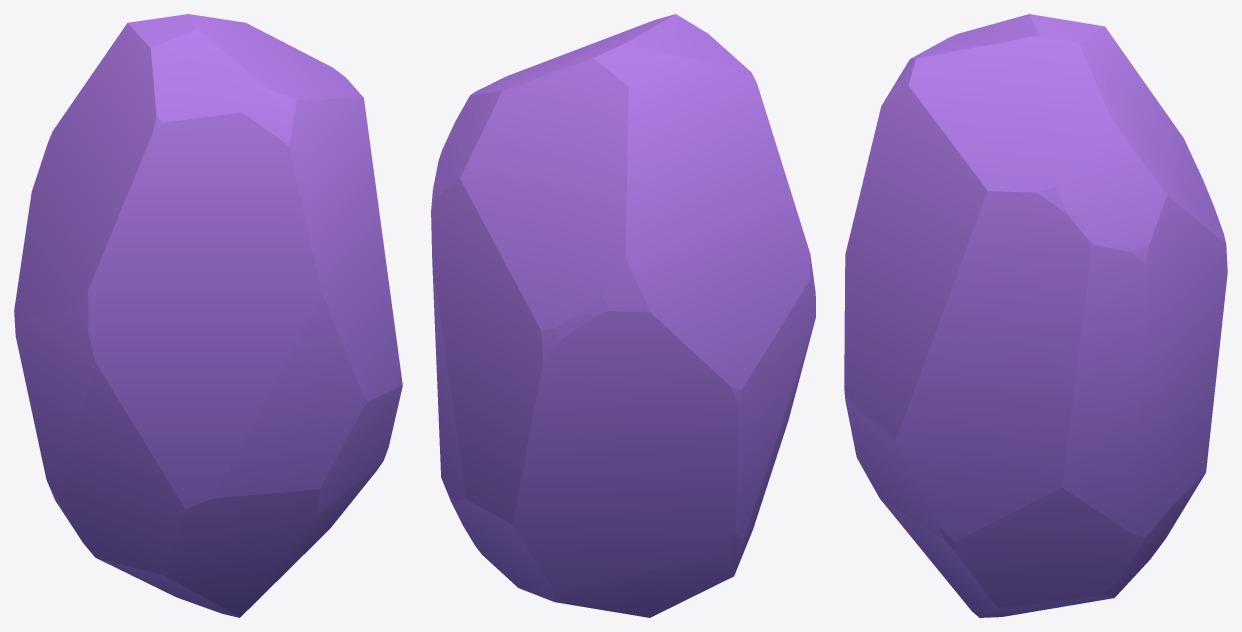
File: Crystal_P_6.glb
3 renders of one model, left to right at view 1: azimuth 30°, elevation 25°; view 2: azimuth 150°, elevation 25°; view 3: azimuth 270°, elevation 25°, orthographic.
Visible parts, largest first — view 1: crystal_6; view 2: crystal_6; view 3: crystal_6.
Part boxes in pixels (left/top/right/bottom): crystal_6: left=14, top=14, right=402, bottom=617; crystal_6: left=431, top=14, right=815, bottom=617; crystal_6: left=844, top=14, right=1227, bottom=617.
Bounding box in the file's own units: 0.5693 × 1 × 0.6011.
Materials: 1 (1 with a texture image).
